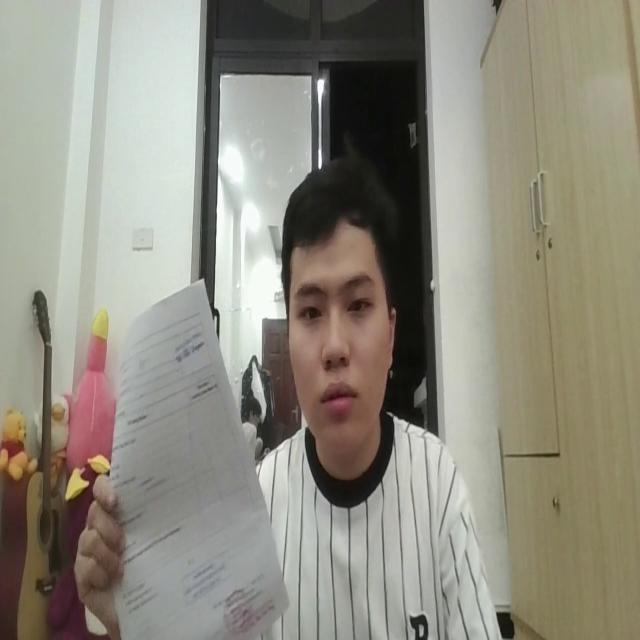book: (111, 275, 292, 640)
student: (248, 157, 502, 640)
